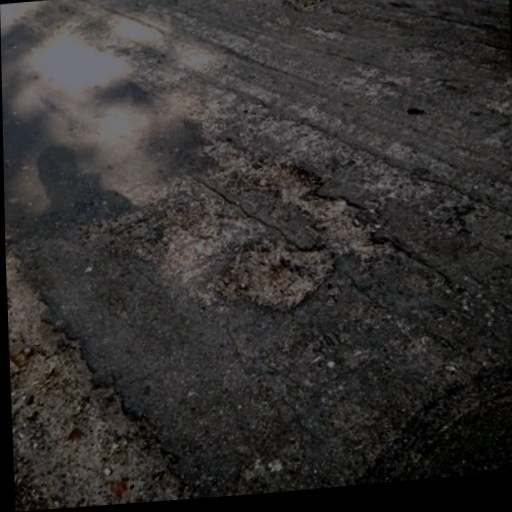pothole: (7, 236, 193, 512), (263, 149, 405, 274), (228, 229, 339, 318), (275, 0, 330, 14)
